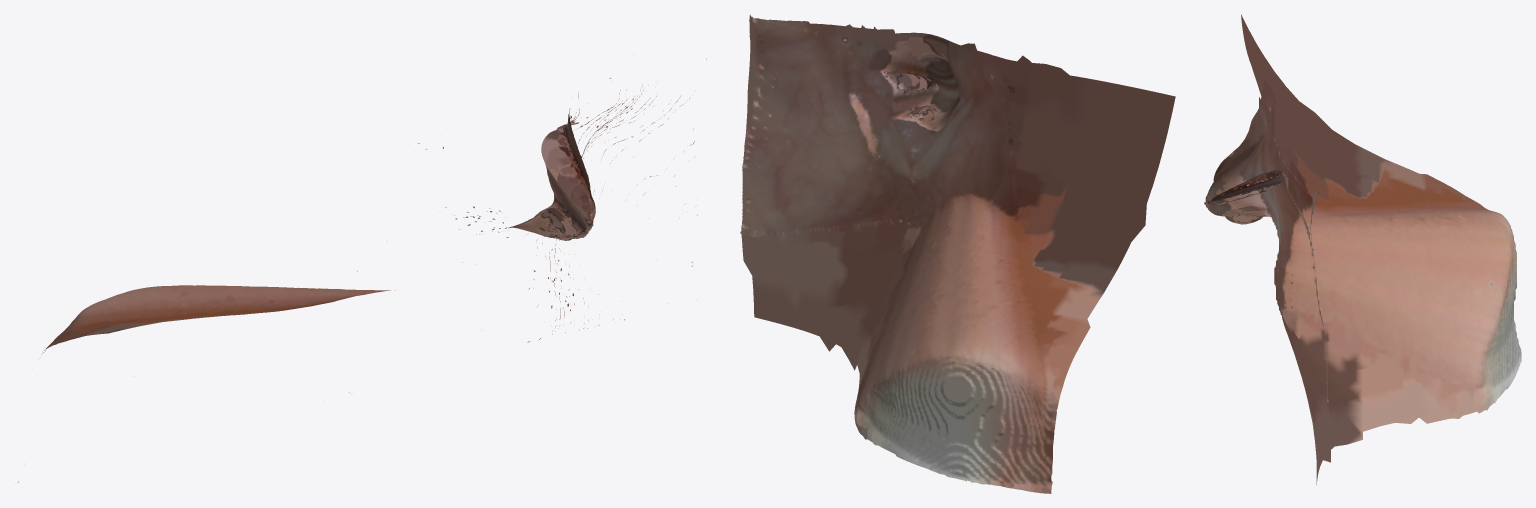
Rendered from lesion (16).gltf.
The picture shows the model from 3 angles, left to right: view 1: azimuth 30°, elevation 25°; view 2: azimuth 150°, elevation 25°; view 3: azimuth 270°, elevation 25°; orthographic projection. The views are drawn at different scales.
Bounding box in the file's own units: 0.00117 × 0.000883 × 0.0008.
